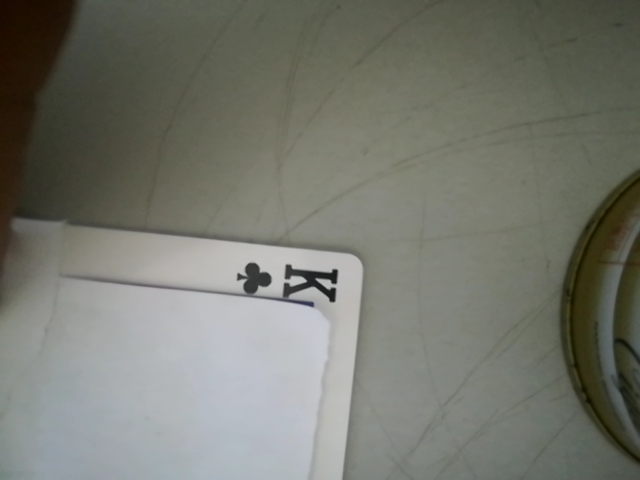mh k: (228, 255, 357, 309)
